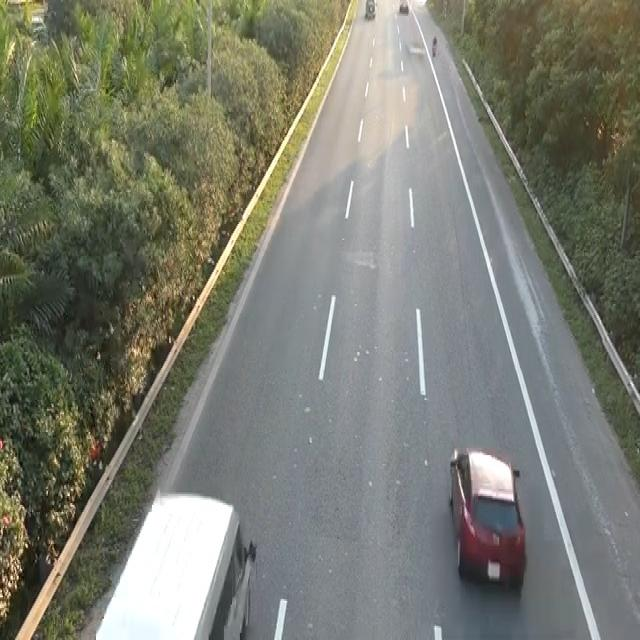bus: (446, 441, 528, 590)
car: (364, 0, 376, 20)
jeep: (93, 484, 257, 636)
minibus: (430, 32, 438, 57)
